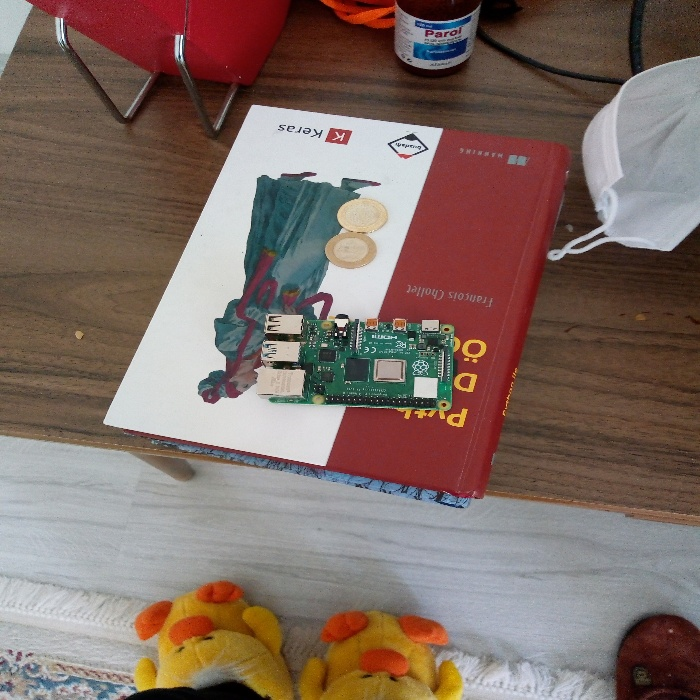raspberry: (242, 305, 473, 414)
